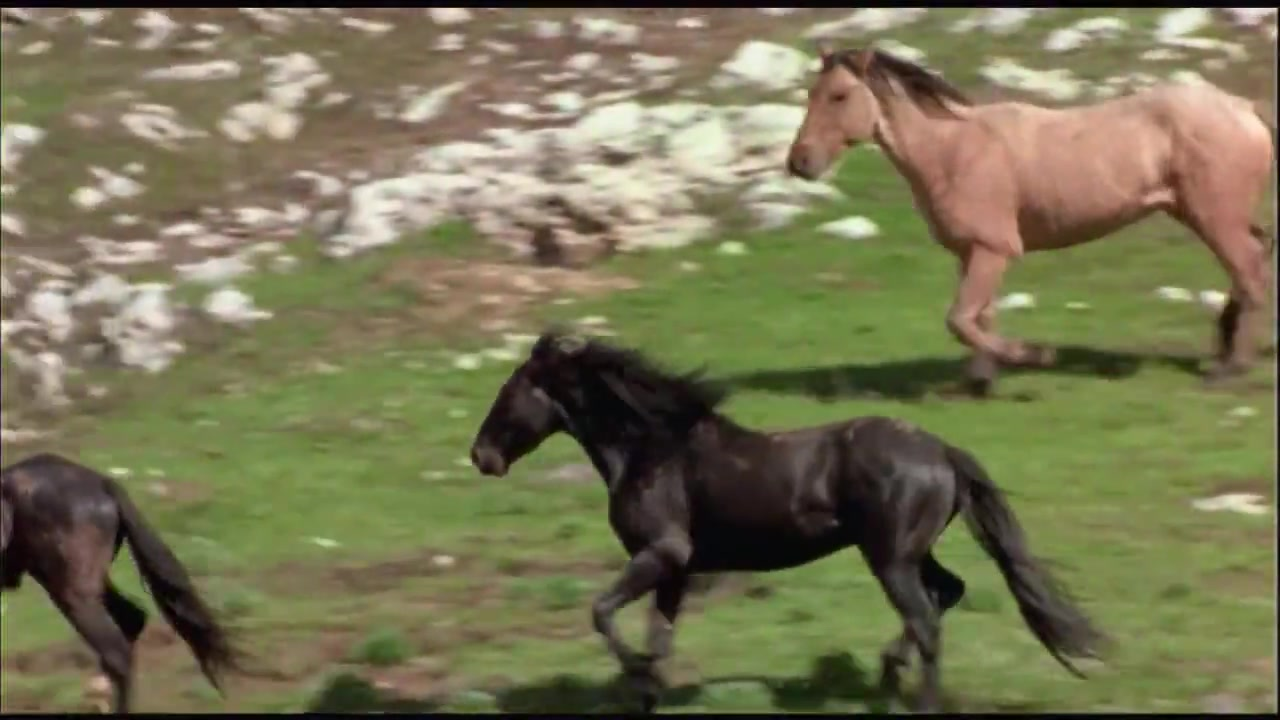horse: (470, 331, 1108, 713)
